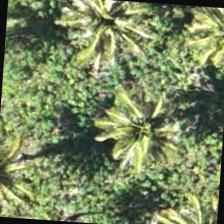Kelapa_Sawit: (98, 76, 194, 172), (47, 0, 142, 63), (171, 4, 223, 75)
